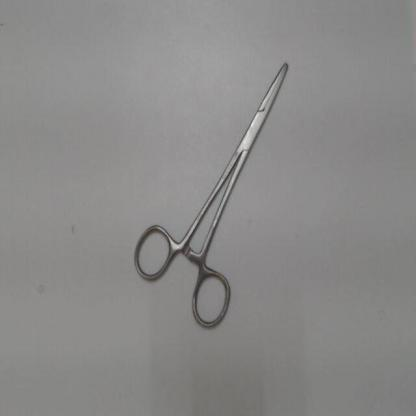Mayo Needle Holder: (128, 44, 303, 338)
